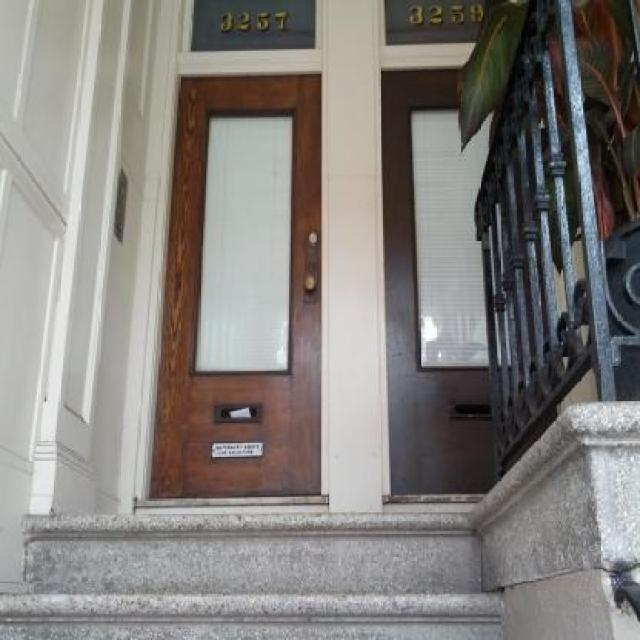stair: (0, 400, 640, 640)
